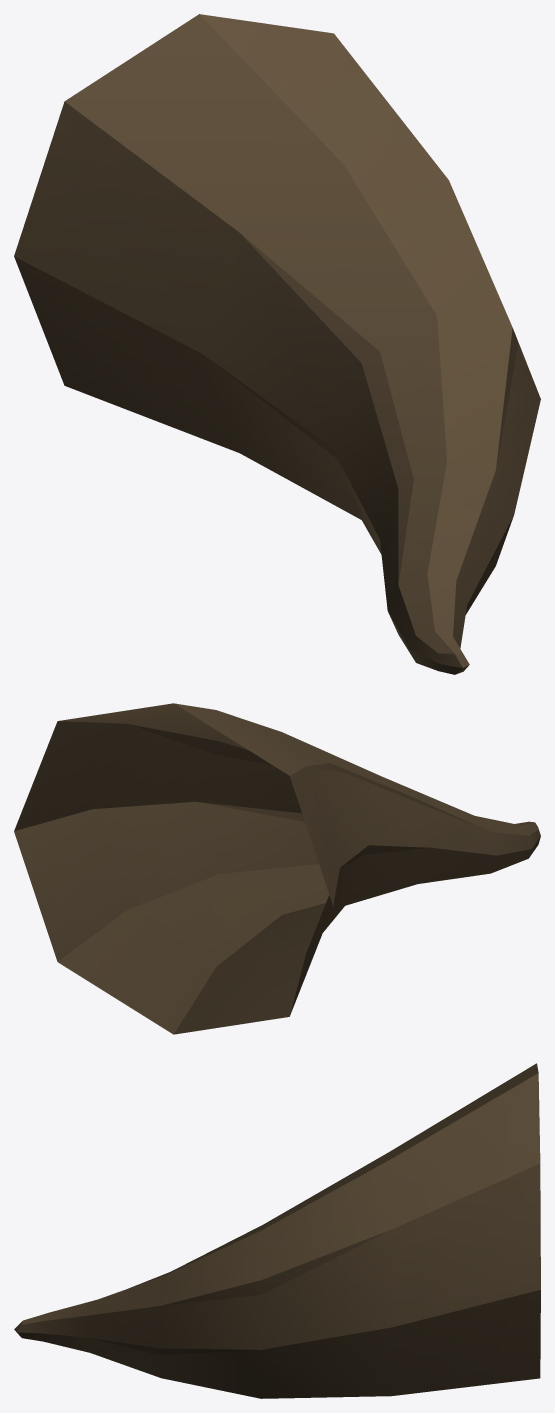
3 renders of one model, top to bottom at view 1: azimuth 30°, elevation 25°; view 2: azimuth 150°, elevation 25°; view 3: azimuth 270°, elevation 25°, orthographic. The views are drawn at different scales.
Visible parts, largest first — view 1: root_1; view 2: root_1; view 3: root_1.
Part boxes in pixels (box(x1,y1,x2,y2)): root_1: box(14, 14, 540, 674); root_1: box(14, 703, 540, 1034); root_1: box(14, 1063, 540, 1398).
Size of the model in its own units: 1.1 by 1.11 by 1.75.
Materials: 1 (1 with a texture image).
